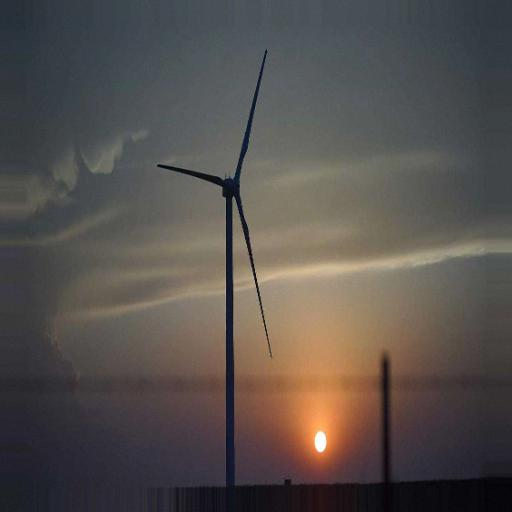wind turbine: (153, 47, 274, 483)
